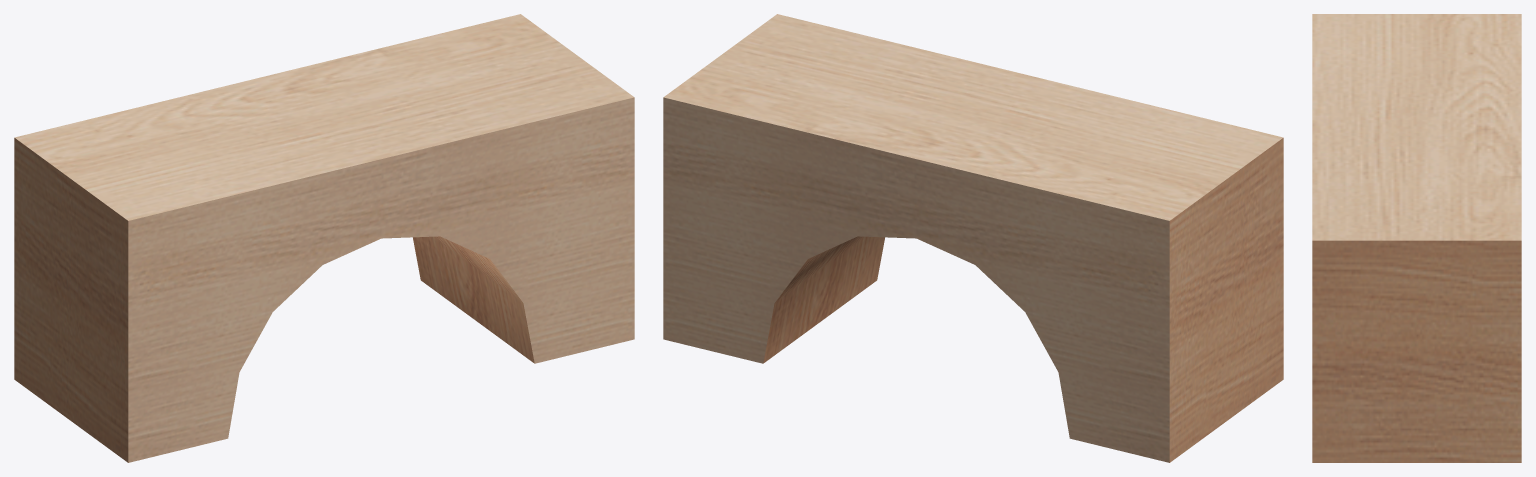
The model's file is Doll_OB_Blocks_015.FBX.
The picture shows the model from 3 angles, left to right: view 1: azimuth 30°, elevation 25°; view 2: azimuth 150°, elevation 25°; view 3: azimuth 270°, elevation 25°; orthographic projection. The views are drawn at different scales.
Parts seen in each view (by area): view 1: Doll_OB_Blocks_015; view 2: Doll_OB_Blocks_015; view 3: Doll_OB_Blocks_015.
Boxes of the visible parts, <box> form: Doll_OB_Blocks_015: <box>14,14,634,462</box>; Doll_OB_Blocks_015: <box>663,14,1283,462</box>; Doll_OB_Blocks_015: <box>1312,14,1521,462</box>.
Bounding box in the file's own units: 11.82 × 5.4 × 4.61.
